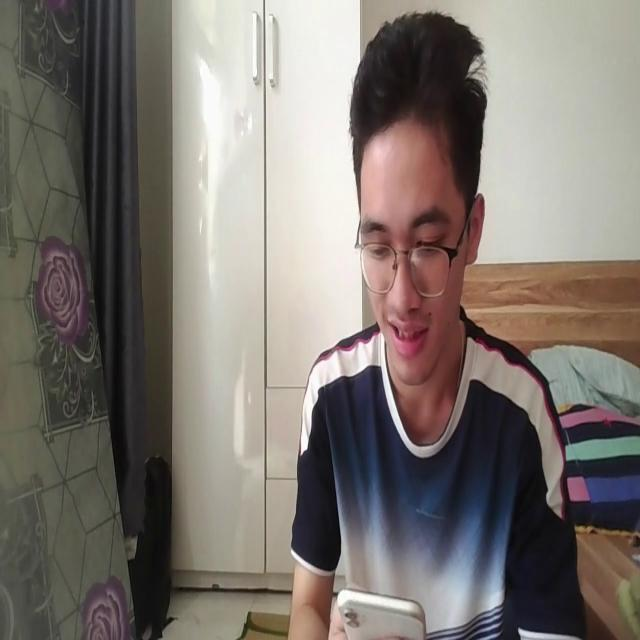student: (292, 6, 578, 640)
